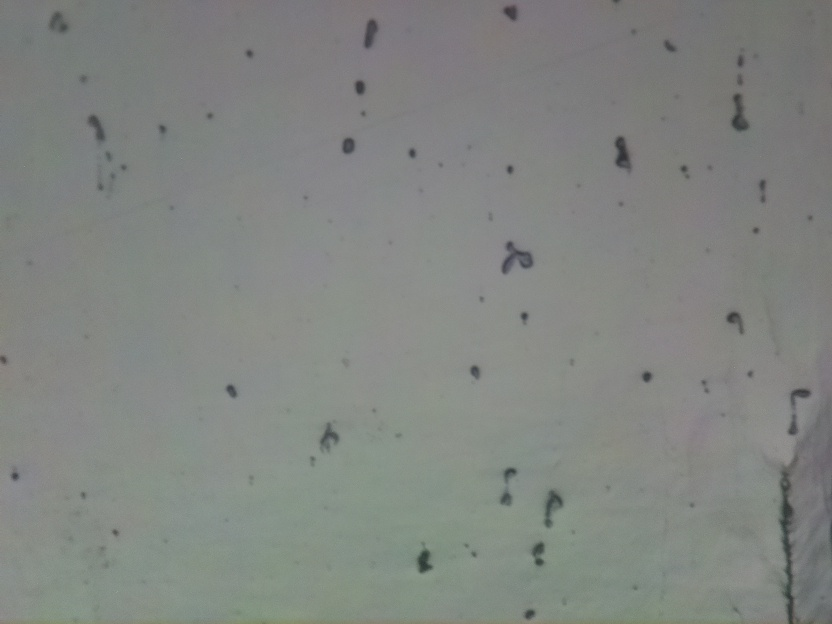crack: (766, 462, 808, 624)
